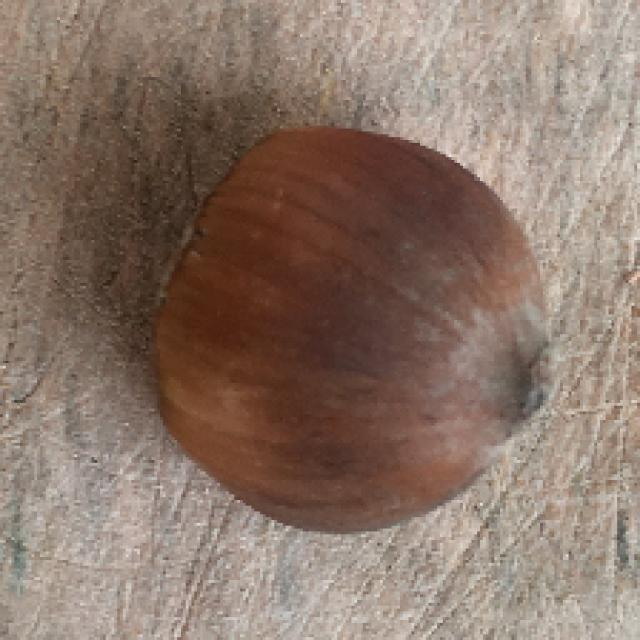damagedHazelnut: (156, 113, 560, 523)
